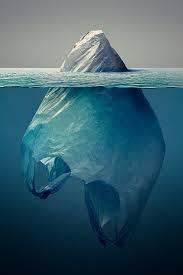Plastic bag: (18, 26, 168, 251)
